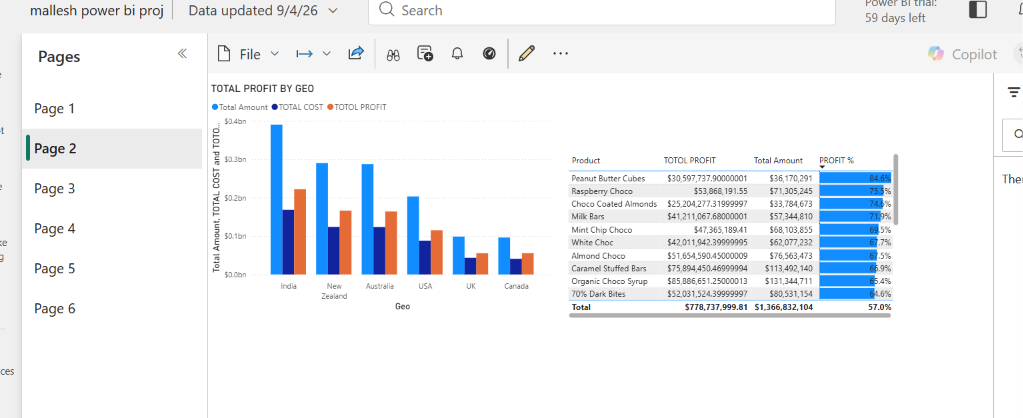

The dashboard page shown, as its layout file describes it:
{"tool":"powerbi","page":{"name":"Page 2","canvas":[1280,720],"ordinal":1},"visuals":[{"type":"clusteredColumnChart","title":"TOTAL PROFIT BY GEO","fields":{"Category":["locations.Geo"],"Y":["shipments.Total Amount","shipments.TOTAL COST","shipments.TOTOL PROFIT"]},"box":[0,15,566.7,376.7],"z":0},{"type":"tableEx","fields":{"Values":["products.Product","shipments.TOTOL PROFIT","shipments.Total Amount","shipments.PROFIT %"]},"box":[581.7,125,548.3,278.3],"z":1000}]}

Visuals, with their boxes on the page's 1280x720 design canvas (x1, y1, x2, y2). These are canvas units, not pixel positions in the 1023x418 screenshot, which may show the page scaled, cropped or inside an application window:
"TOTAL PROFIT BY GEO" clusteredColumnChart: region(0, 15, 567, 392)
tableEx - products.Product x shipments.TOTOL PROFIT: region(582, 125, 1130, 403)
